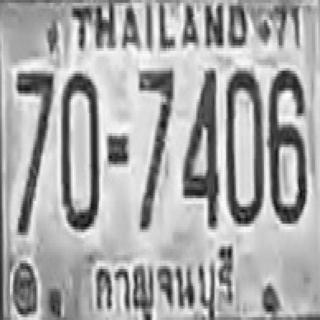N00: (59, 70, 99, 228), (224, 68, 262, 224)
N04: (181, 64, 218, 225)
N06: (267, 68, 305, 221)
N07: (15, 67, 53, 231), (137, 66, 173, 225)
P17: (88, 242, 237, 320)
